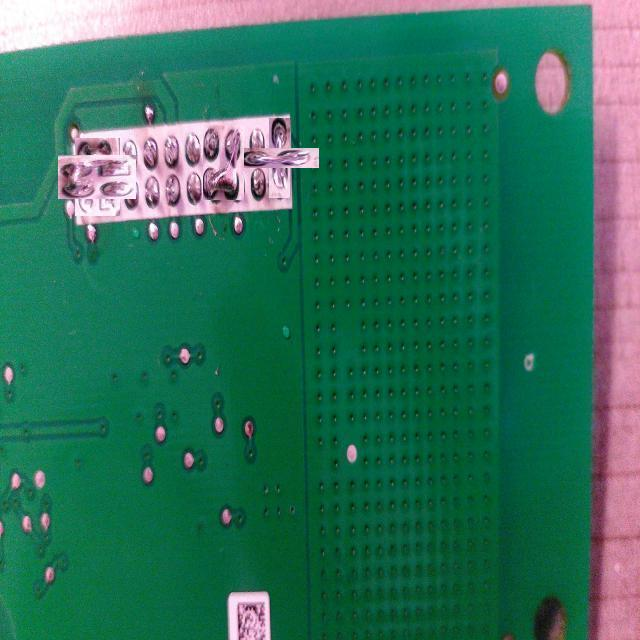Short_circuit: (67, 146, 128, 208), (203, 126, 244, 202), (254, 133, 305, 183)
